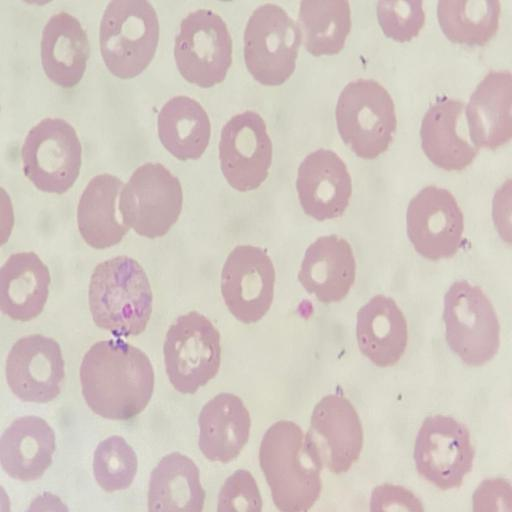Infected: (88, 255, 153, 336)
Uninfected: (79, 339, 154, 417), (258, 421, 322, 511), (441, 280, 499, 365), (117, 163, 182, 238), (336, 79, 396, 160), (163, 312, 222, 393), (100, 0, 161, 77), (307, 391, 363, 473), (242, 5, 300, 84), (21, 117, 82, 192), (174, 10, 233, 86), (413, 414, 473, 487), (220, 245, 276, 322), (405, 186, 464, 259), (4, 333, 64, 404), (219, 114, 273, 191), (295, 148, 352, 220), (420, 98, 477, 169), (298, 234, 356, 303), (355, 294, 409, 366), (77, 173, 128, 248), (0, 414, 57, 481), (196, 392, 250, 462), (466, 69, 512, 150), (40, 11, 89, 86), (157, 95, 213, 160), (0, 251, 51, 320), (297, 0, 351, 55), (92, 435, 138, 492)
